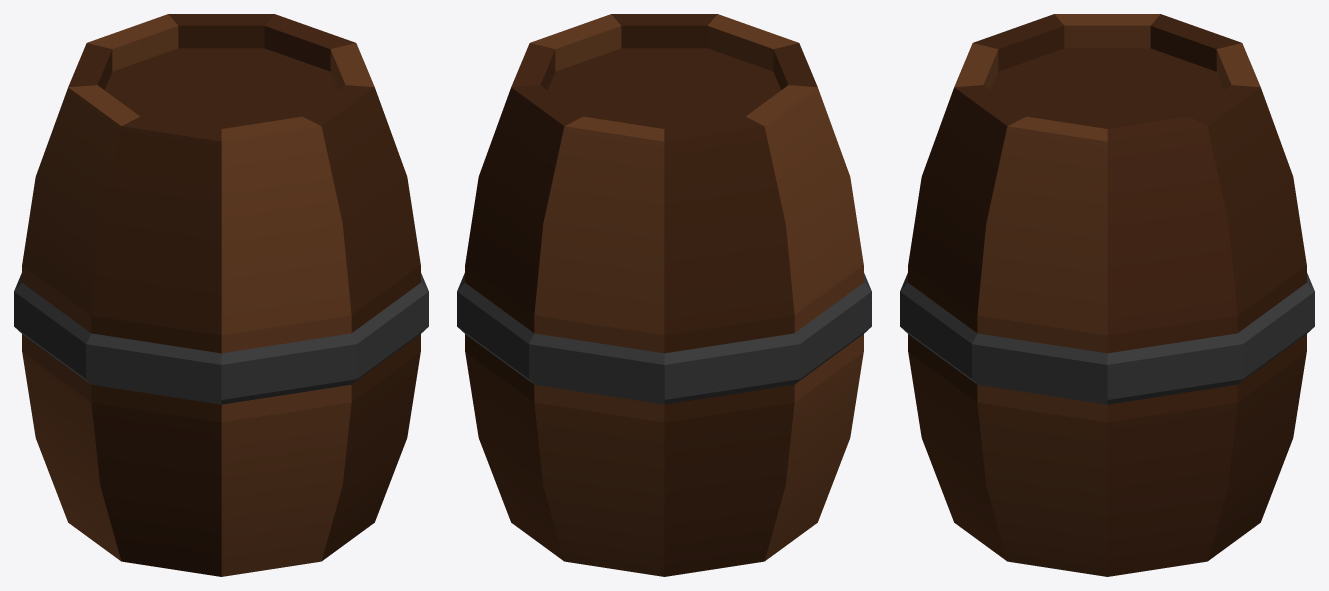
The model's file is Barrel.fbx.
The picture shows the model from 3 angles, left to right: view 1: azimuth 30°, elevation 25°; view 2: azimuth 150°, elevation 25°; view 3: azimuth 270°, elevation 25°; orthographic projection.
Visible parts, largest first — view 1: Cylinder023; view 2: Cylinder023; view 3: Cylinder023.
Part boxes in pixels (bbox=[...]): Cylinder023: bbox=[14, 14, 428, 576]; Cylinder023: bbox=[457, 14, 871, 576]; Cylinder023: bbox=[900, 14, 1314, 576].
Bounding box in the file's own units: 46.23 × 46.94 × 54.34.
